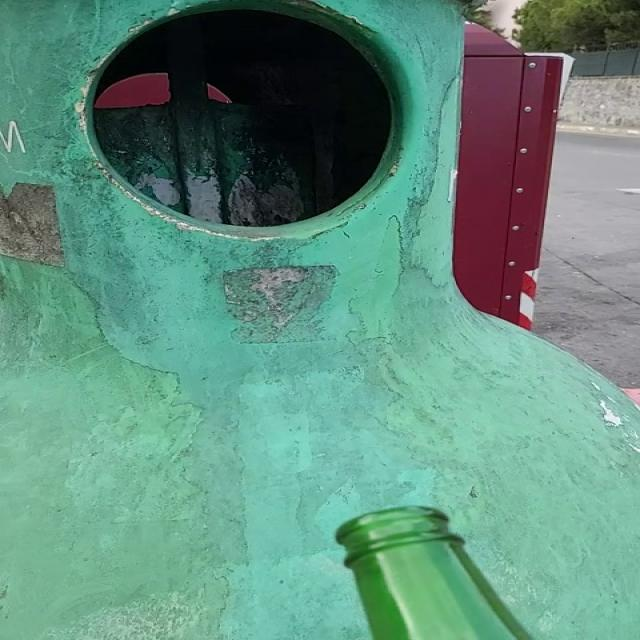glass: (336, 508, 532, 640)
